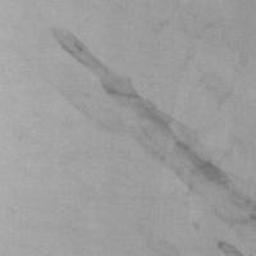Water spot: (49, 22, 256, 228), (142, 232, 186, 256), (216, 239, 246, 256)
